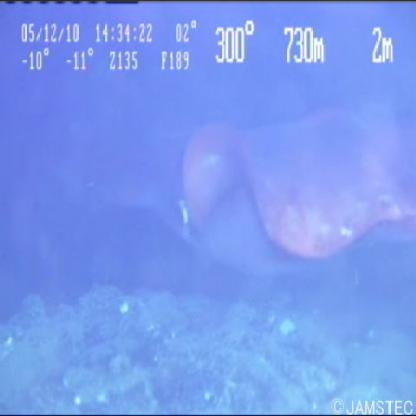Bio: (127, 94, 416, 288)
